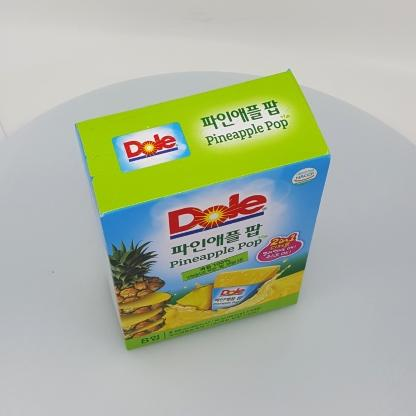---------496ML: (75, 68, 331, 350)
